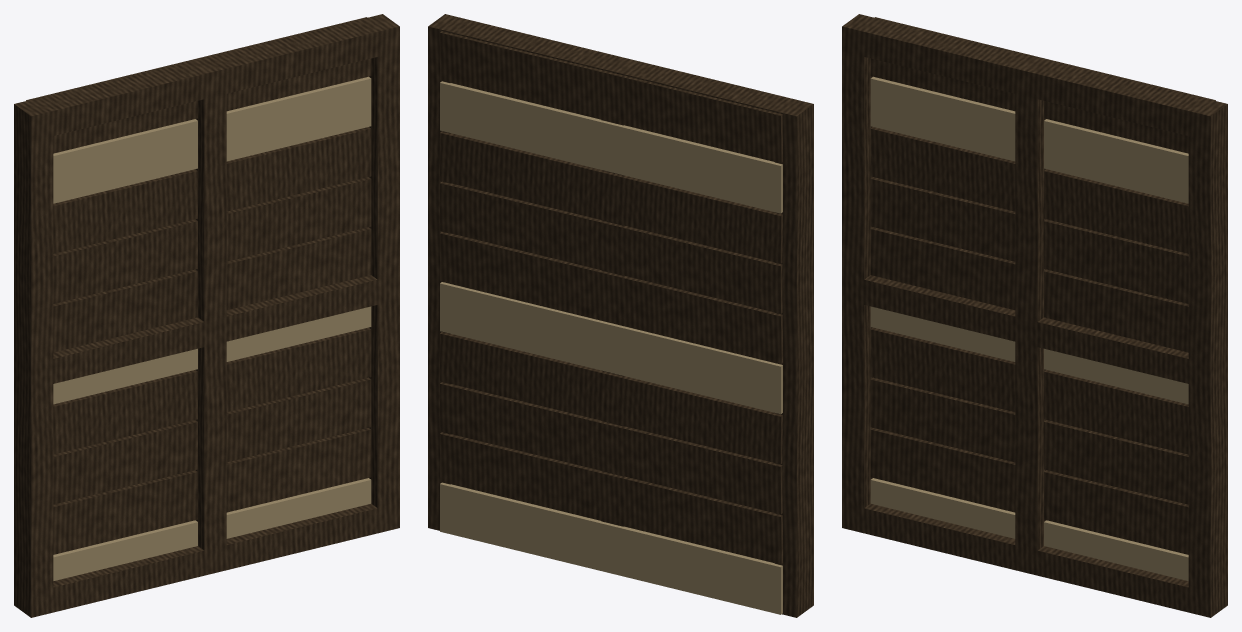
The model's file is Wall_Timber_2m.glb.
3 views of the same model, side by side, from view 1: azimuth 30°, elevation 25°; view 2: azimuth 150°, elevation 25°; view 3: azimuth 330°, elevation 25° (orthographic).
Parts seen in each view (by area): view 1: Wall_Timber_2m; view 2: Wall_Timber_2m; view 3: Wall_Timber_2m.
Boxes of the visible parts, box(x1,y1,x2,y2) form: Wall_Timber_2m: box(14, 14, 399, 617); Wall_Timber_2m: box(428, 14, 813, 617); Wall_Timber_2m: box(842, 14, 1227, 617).
Bounding box in the file's own units: 2 × 2.6 × 0.18.
2 materials, 1 textured.
